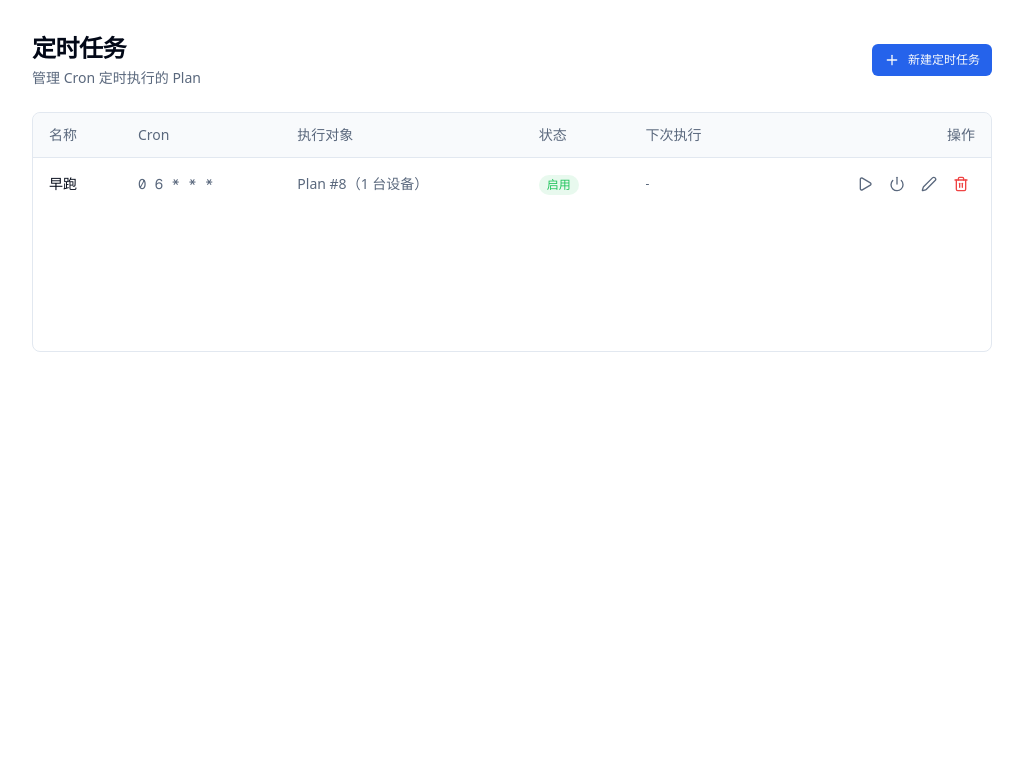
Scenario: SchedulesPage › prefills the edit form from cron_expr without crashing
Click the button named "编辑": point(929, 184) [915,170,943,198]
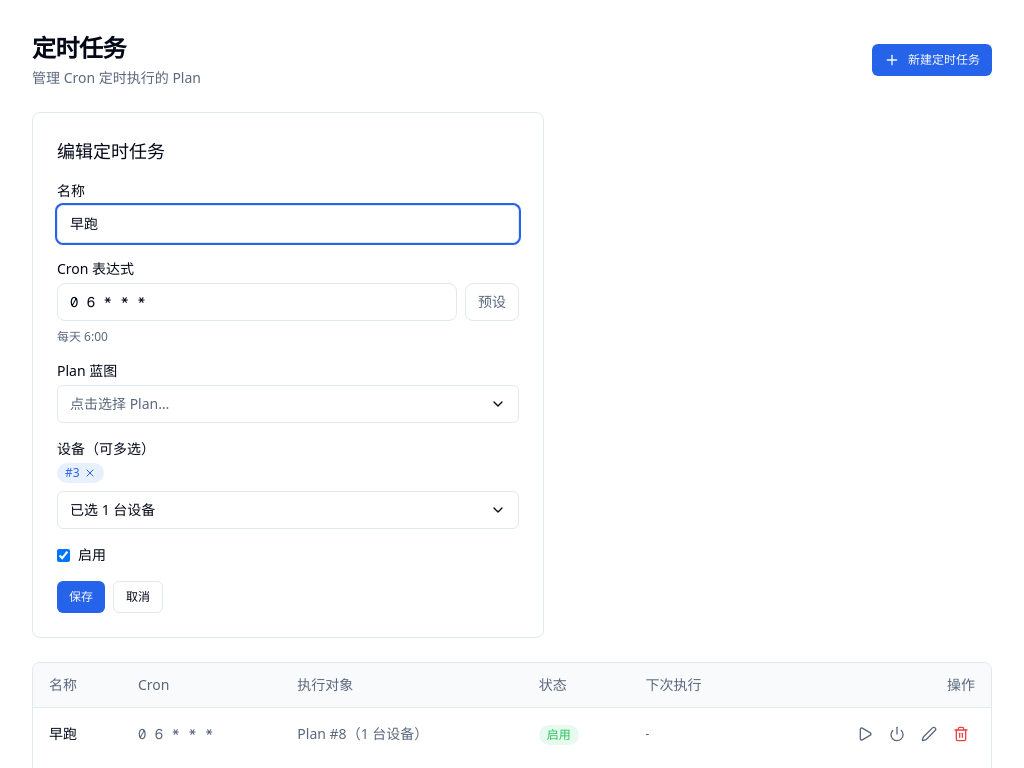
Expected: the field showing "0 6 * * *" is shown, [57,283,457,321]
